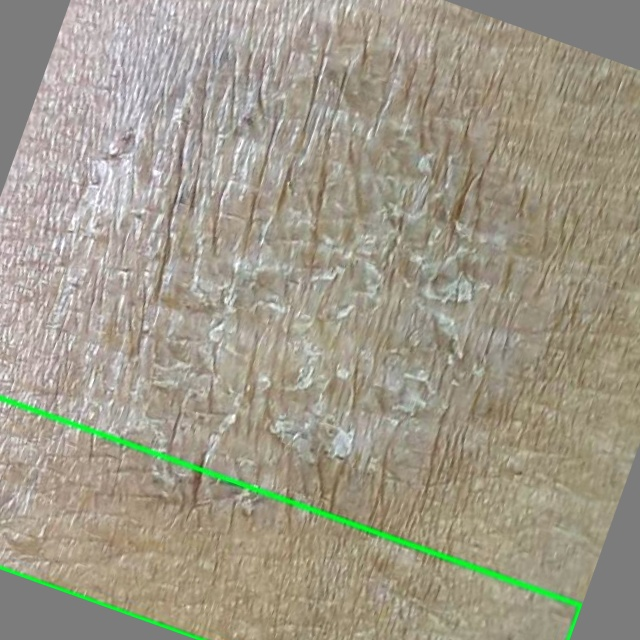Tinea Corporis: (0, 397, 581, 639)
